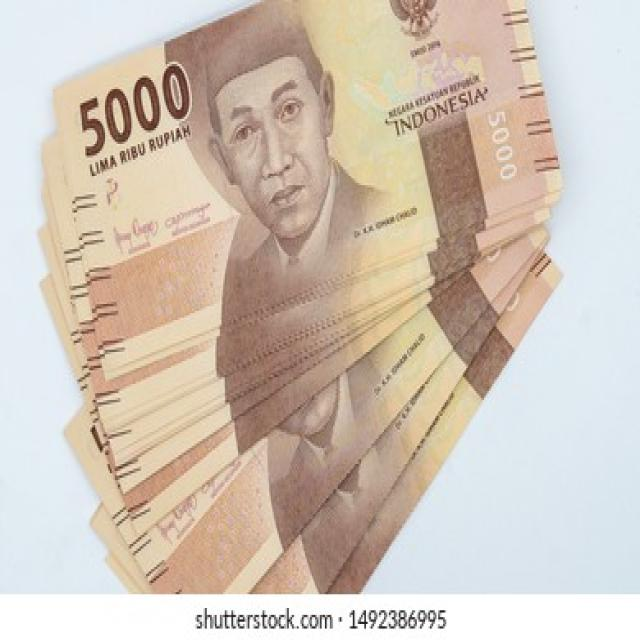lima ribu rupiah: (49, 0, 567, 373)
